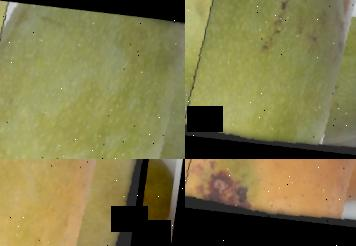PartiallyRipe: (0, 159, 157, 246)
Ripe: (185, 159, 356, 245)
Unripe: (0, 0, 185, 159), (185, 0, 356, 159)
